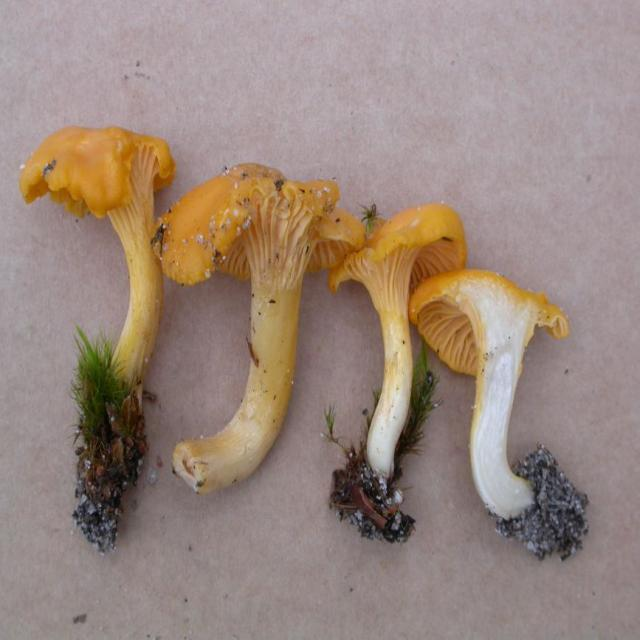Cantharellus cibarius: (154, 164, 363, 488), (23, 127, 169, 541), (411, 268, 608, 554), (323, 202, 465, 539)
